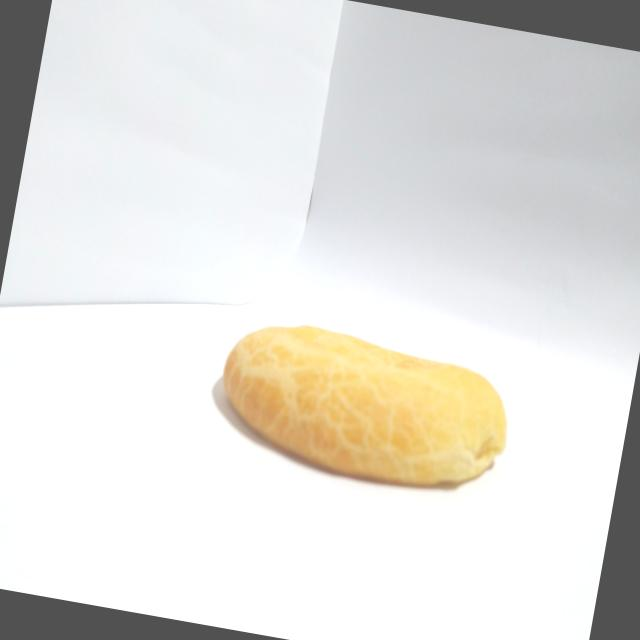Chipa: (200, 292, 528, 520)
